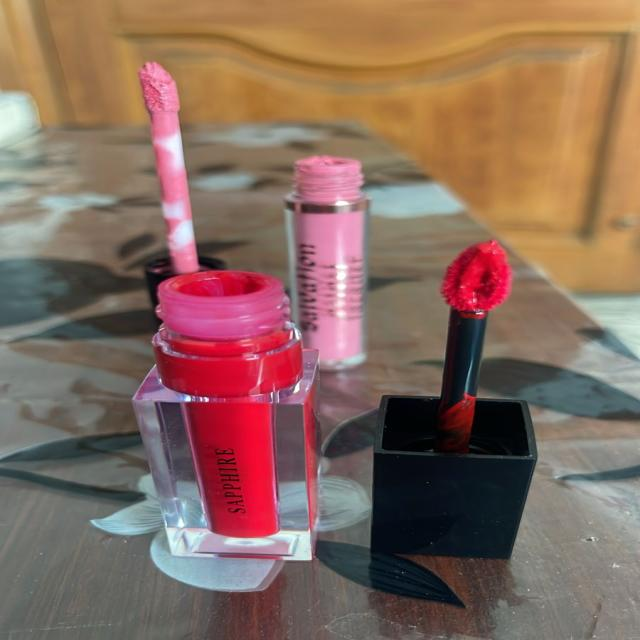lip gloss: (90, 42, 401, 560), (385, 231, 555, 559), (108, 42, 242, 298)
